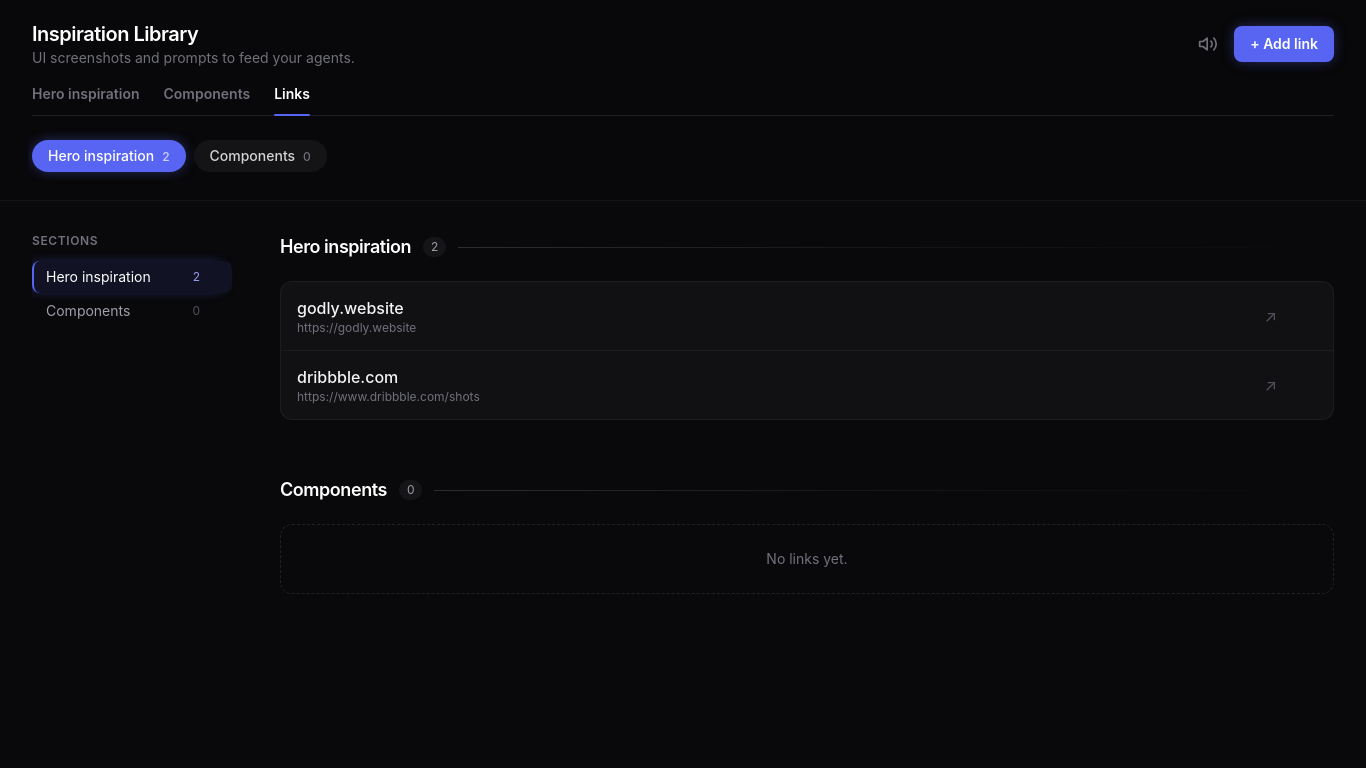
Test: LinksPage › shows why a link was rejected
Click the button "+ Add link": (1284, 44) [1234,26,1334,62]
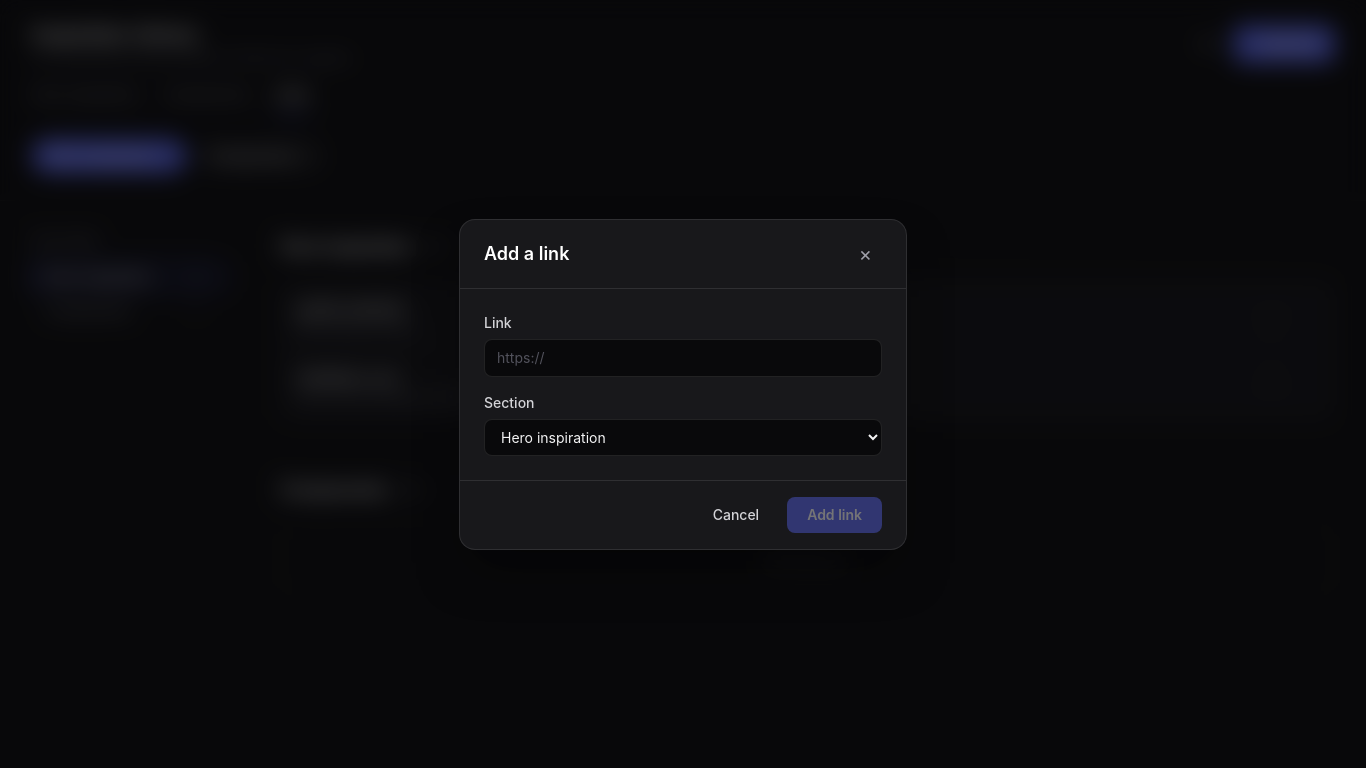
In the field labelled "Link": (683, 358) [484,338,882,376], type "https://godly.website"
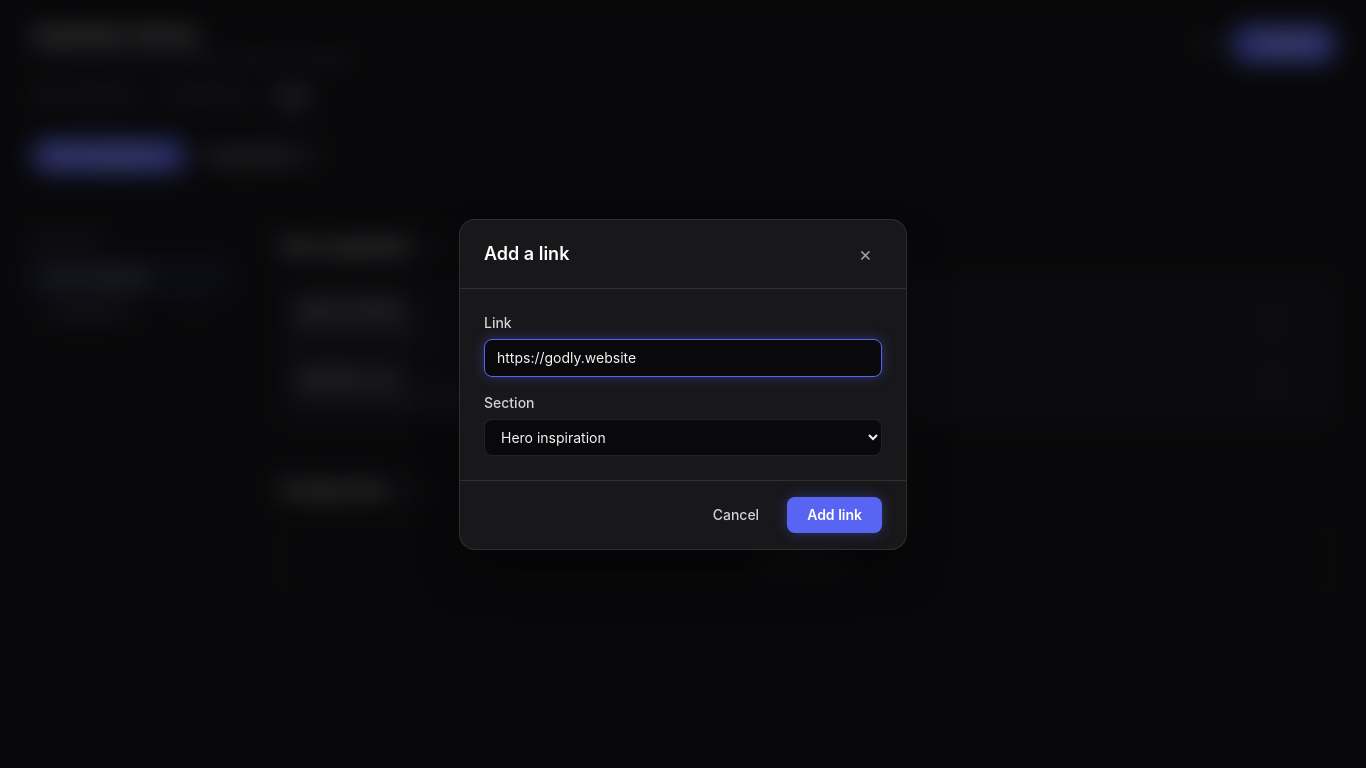
Click the button "Add link": (835, 514) [787,496,882,532]
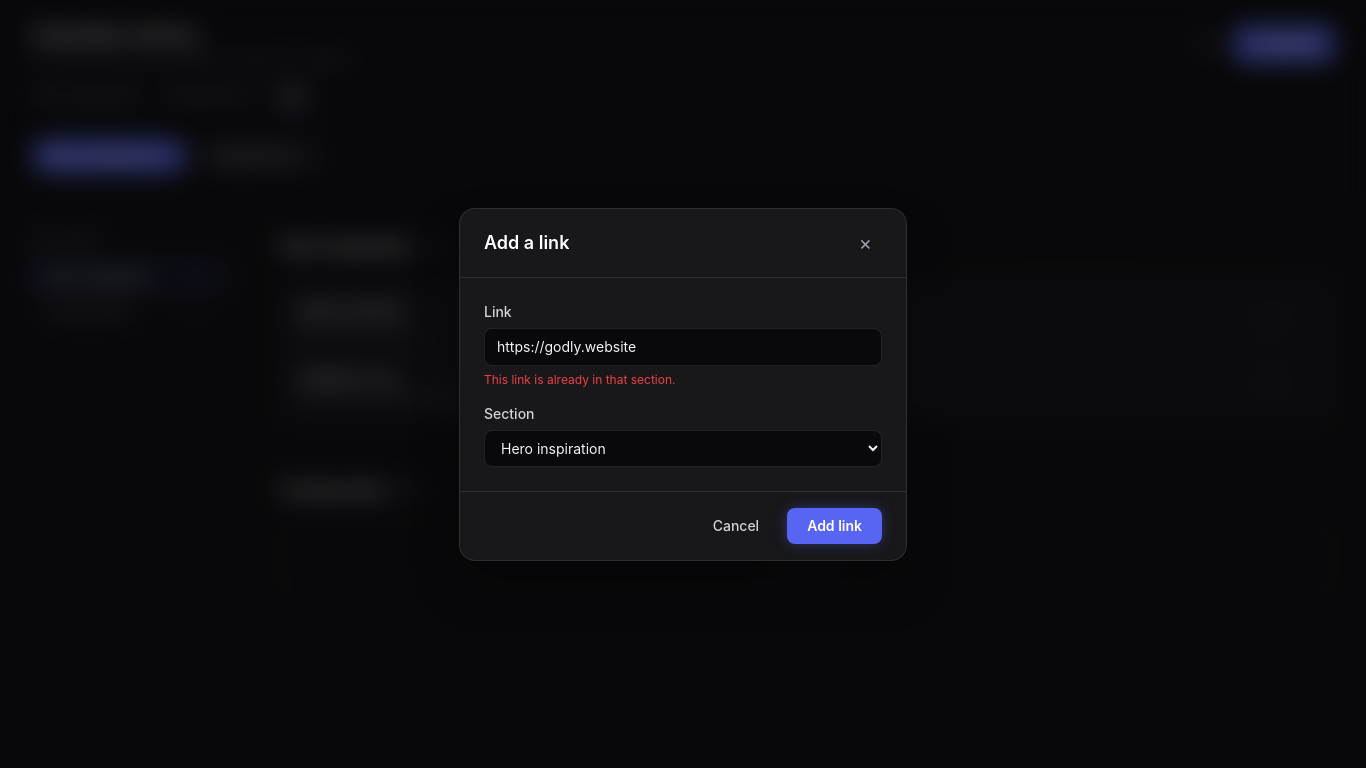
Expected: the text "This link is already in that section." is shown, [484,372,676,386]
